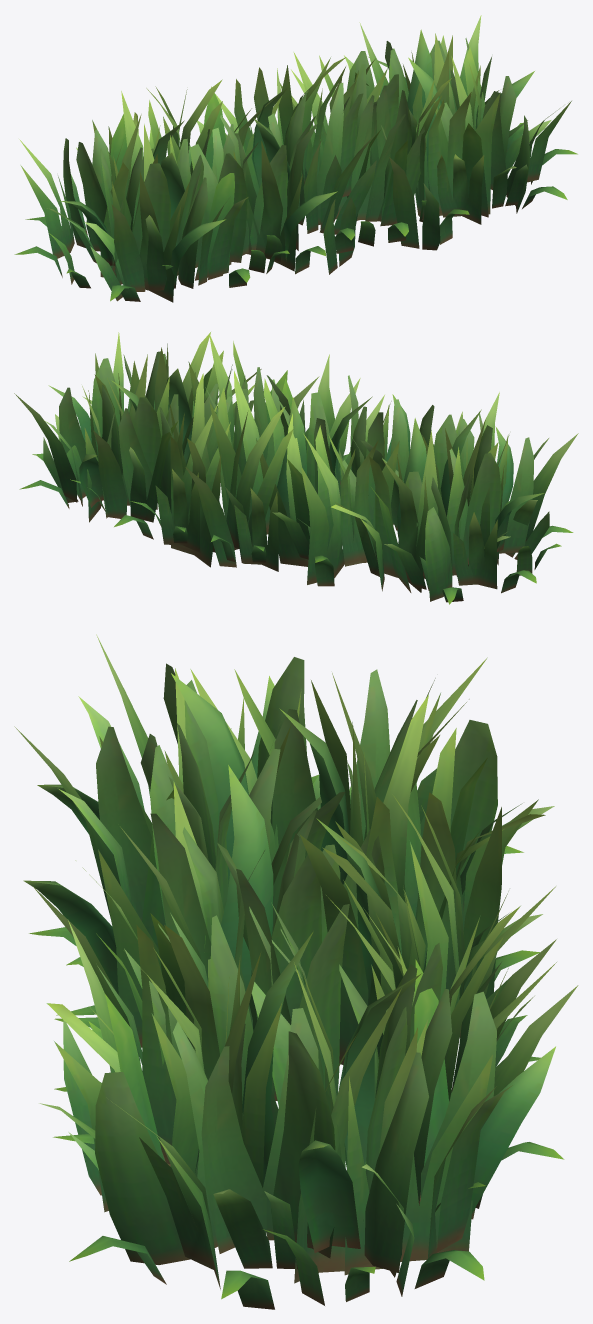
The model's file is pref_sm_beach_techgrass_alpha_yellow03_lv2.fbx.
3 views of the same model, one above another, from view 1: azimuth 30°, elevation 25°; view 2: azimuth 150°, elevation 25°; view 3: azimuth 270°, elevation 25° (orthographic). The views are drawn at different scales.
Parts seen in each view (by area): view 1: pref_sm_beach_techgrass_alpha_yellow03_lv2; view 2: pref_sm_beach_techgrass_alpha_yellow03_lv2; view 3: pref_sm_beach_techgrass_alpha_yellow03_lv2.
Boxes of the visible parts, bbox=[...] form: pref_sm_beach_techgrass_alpha_yellow03_lv2: bbox=[14, 15, 577, 302]; pref_sm_beach_techgrass_alpha_yellow03_lv2: bbox=[14, 332, 578, 604]; pref_sm_beach_techgrass_alpha_yellow03_lv2: bbox=[14, 634, 578, 1309].
Bounding box in the file's own units: 6.12 × 1.99 × 2.89.
